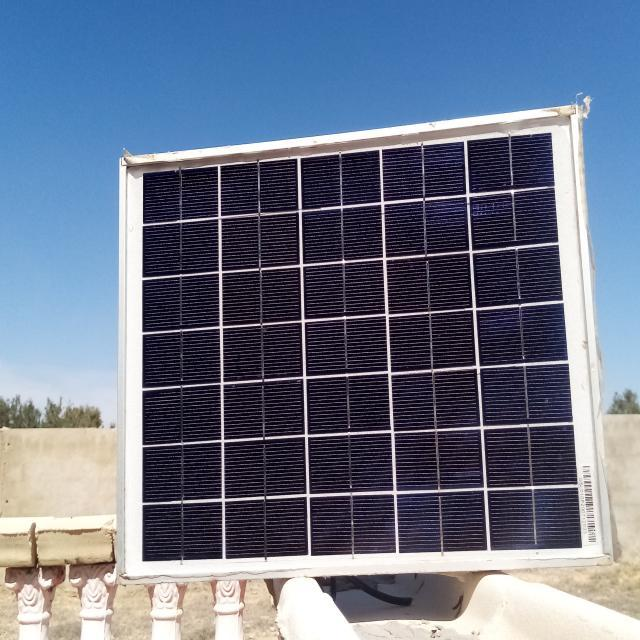no faulty: (118, 107, 612, 576)
